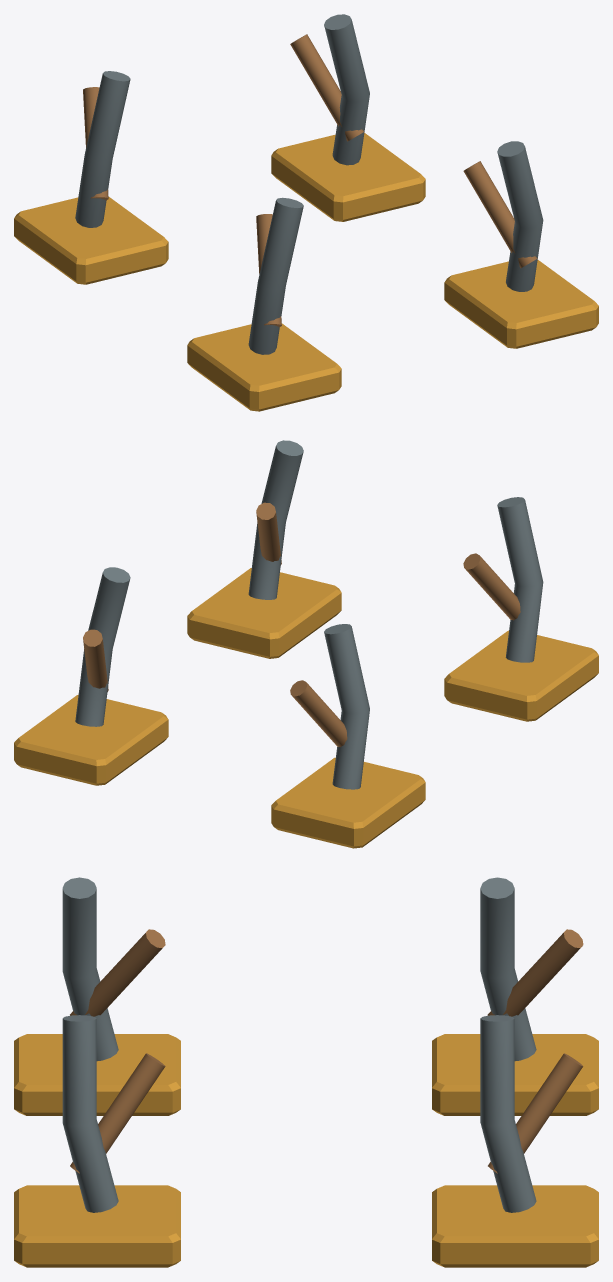
File: landing_gear.glb
3 views of the same model, one above another, from view 1: azimuth 30°, elevation 25°; view 2: azimuth 150°, elevation 25°; view 3: azimuth 270°, elevation 25° (orthographic). The views are drawn at different scales.
Visible parts, largest first — view 1: landing_gear; view 2: landing_gear; view 3: landing_gear.
Part boxes in pixels (x1,y1,x2,y2): landing_gear: (14,14,598,411); landing_gear: (14,440,598,848); landing_gear: (14,877,598,1267).
Bounding box in the file's own units: 3.26 × 1.6 × 3.92.
